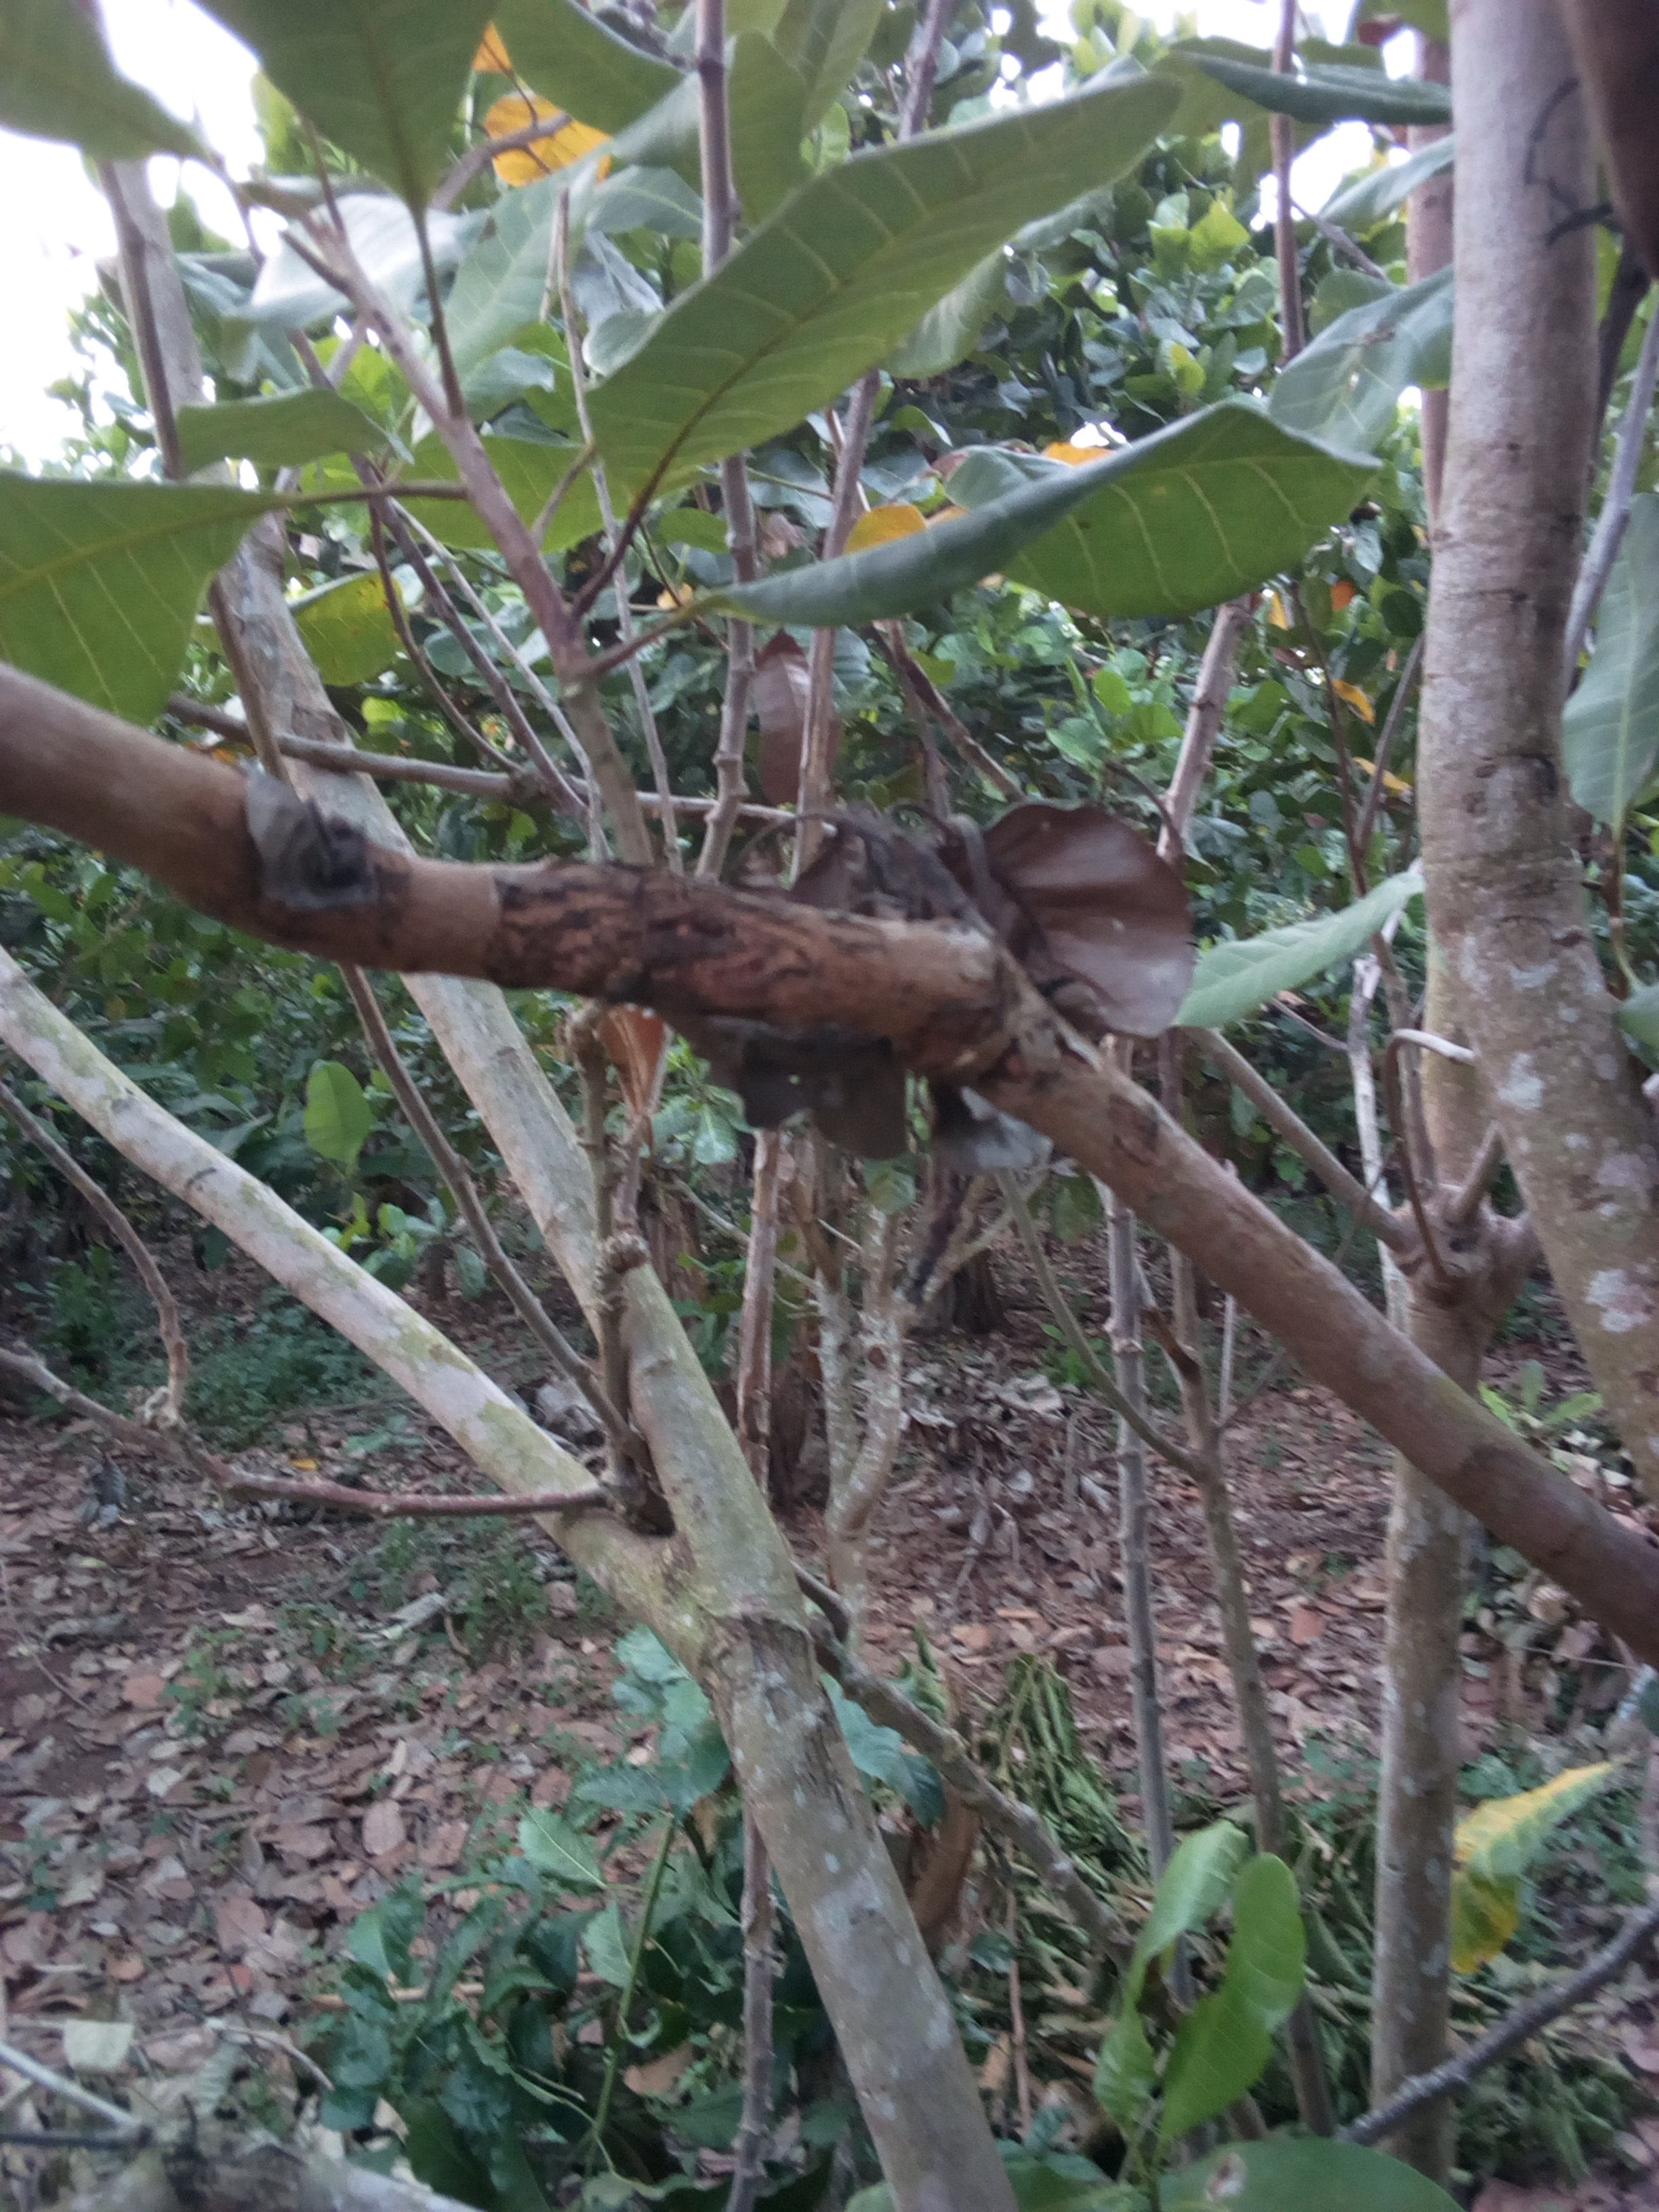Dessèchement des bourgeons: (789, 777, 1223, 1021)
